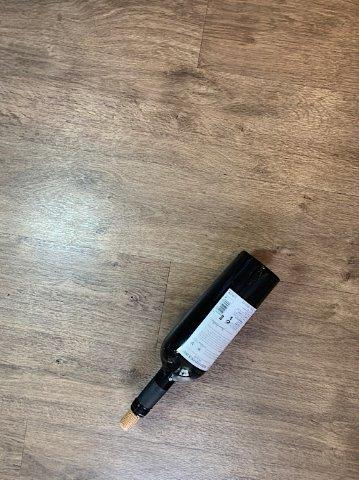botolkaca: (117, 250, 281, 427)
